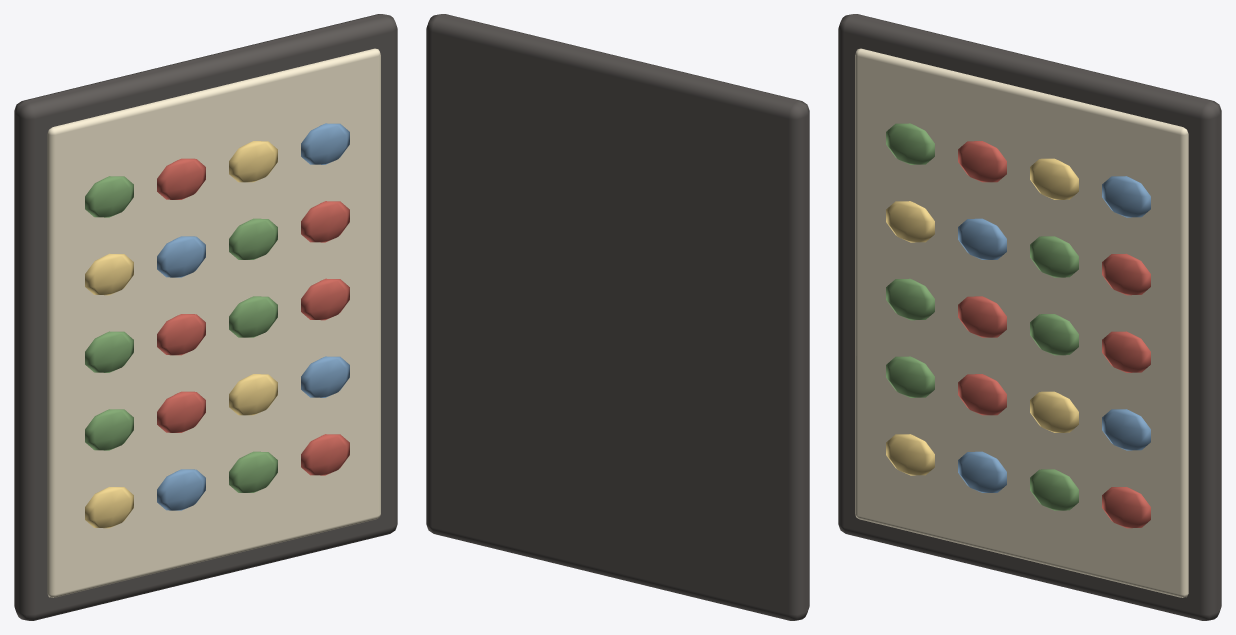
Rendered from insect_chart_poster.glb.
3 views of the same model, side by side, from view 1: azimuth 30°, elevation 25°; view 2: azimuth 150°, elevation 25°; view 3: azimuth 330°, elevation 25° (orthographic).
Parts seen in each view (by area): view 1: insect_chart_poster_mesh; view 2: insect_chart_poster_mesh; view 3: insect_chart_poster_mesh.
Boxes of the visible parts, x1,y1,x2,y2 form: insect_chart_poster_mesh: [14, 14, 397, 620]; insect_chart_poster_mesh: [426, 14, 809, 620]; insect_chart_poster_mesh: [838, 14, 1221, 620].
Size of the model in its own units: 0.42 by 0.55 by 0.0443.
